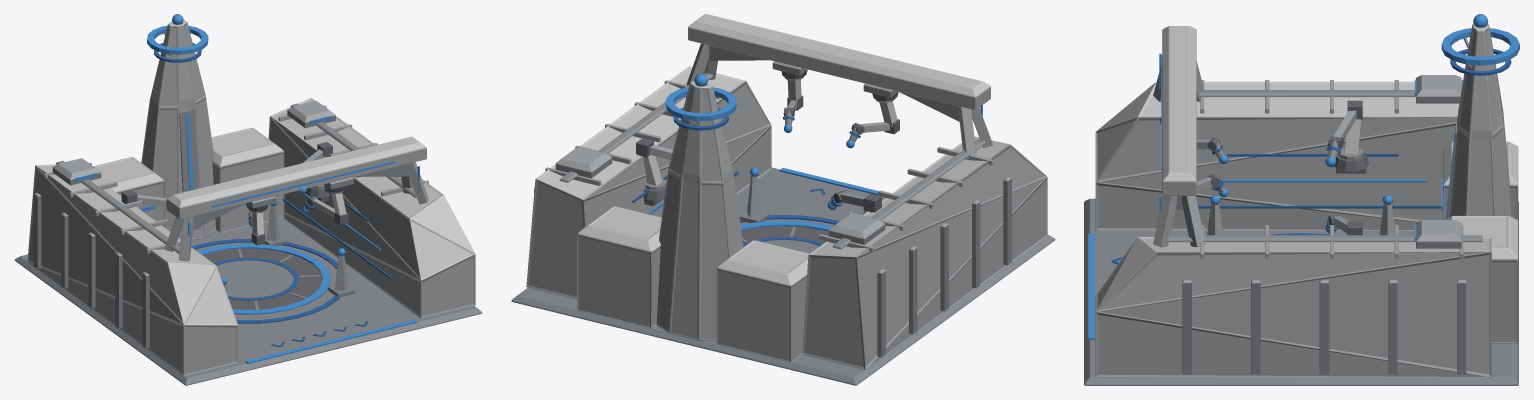
File: lattice_advanced_assembly.glb
The picture shows the model from 3 angles, left to right: view 1: azimuth 30°, elevation 25°; view 2: azimuth 150°, elevation 25°; view 3: azimuth 270°, elevation 25°; orthographic projection. The views are drawn at different scales.
Parts seen in each view (by area): view 1: Body; view 2: Body; view 3: Body.
Boxes of the visible parts, x1,y1,x2,y2 form: Body: (14,14,482,385); Body: (511,14,1055,385); Body: (1084,14,1519,385).
Bounding box in the file's own units: 22.94 × 16.2 × 22.85.
